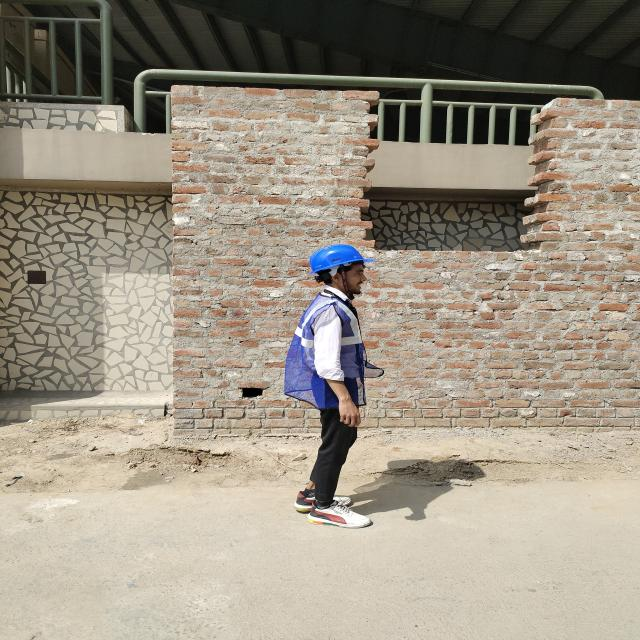safe: (285, 246, 384, 524)
